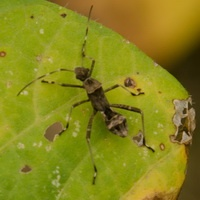insect: (15, 3, 154, 183), (110, 106, 142, 142)
